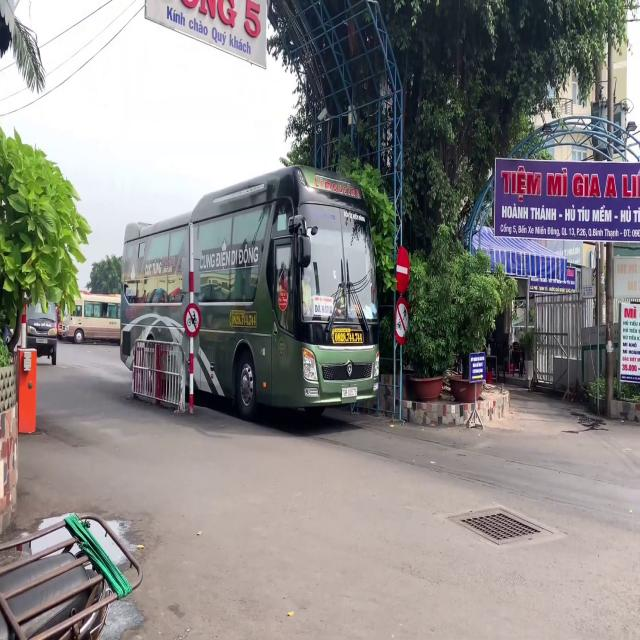bien_trang: (342, 388, 358, 398)
